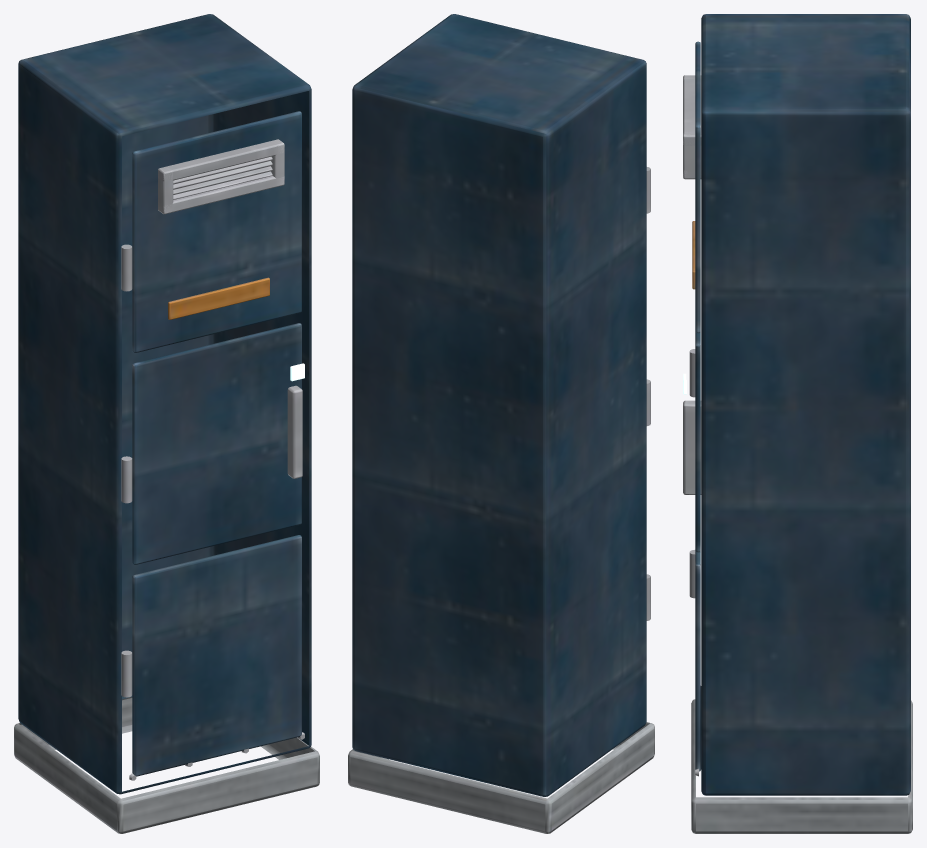
The model's file is Locker_Single.fbx.
The picture shows the model from 3 angles, left to right: view 1: azimuth 30°, elevation 25°; view 2: azimuth 150°, elevation 25°; view 3: azimuth 270°, elevation 25°; orthographic projection. The views are drawn at different scales.
Parts seen in each view (by area): view 1: Locker_Single; view 2: Locker_Single; view 3: Locker_Single.
Part boxes in pixels (left/top/right/bottom): Locker_Single: left=14, top=14, right=319, bottom=833; Locker_Single: left=348, top=14, right=654, bottom=833; Locker_Single: left=683, top=14, right=912, bottom=833.
Bounding box in the file's own units: 0.6 × 1.98 × 0.57.
1 material, 1 textured.
